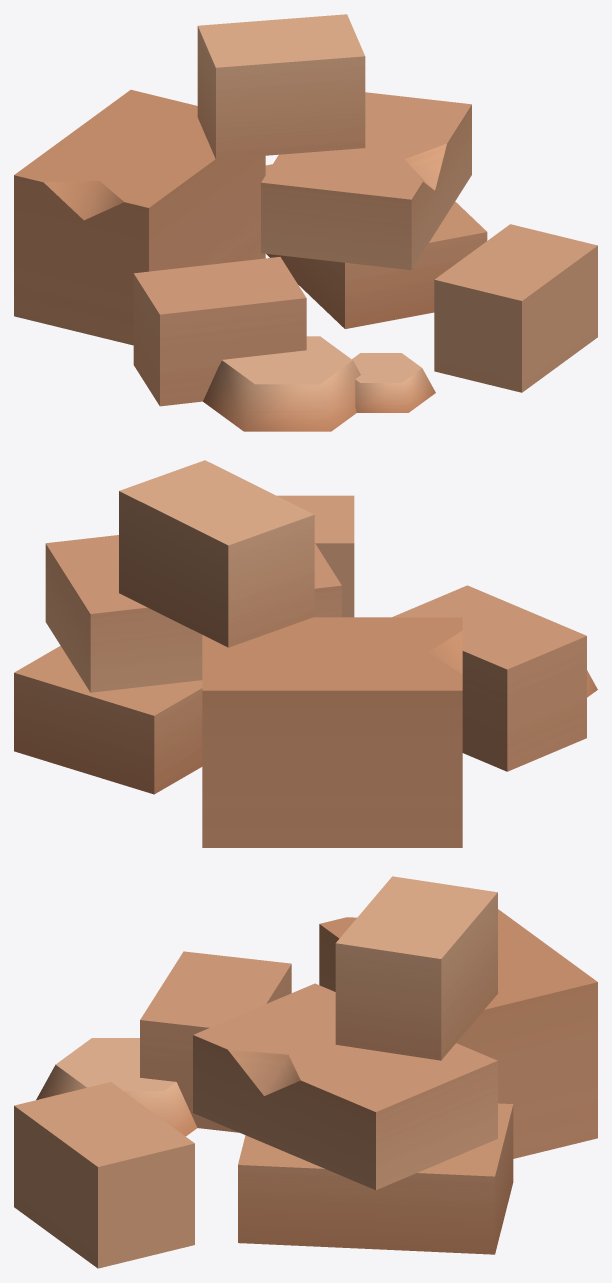
The picture shows the model from 3 angles, top to bottom: view 1: azimuth 30°, elevation 25°; view 2: azimuth 150°, elevation 25°; view 3: azimuth 270°, elevation 25°; orthographic projection. The views are drawn at different scales.
Visible parts, largest first — view 1: bricks; view 2: bricks; view 3: bricks.
Boxes of the visible parts, x1,y1,x2,y2 form: bricks: [14, 14, 597, 431]; bricks: [14, 460, 597, 847]; bricks: [14, 876, 597, 1268].
Size of the model in its own units: 0.772 by 0.4125 by 0.8469.
Materials: 1 (1 with a texture image).
